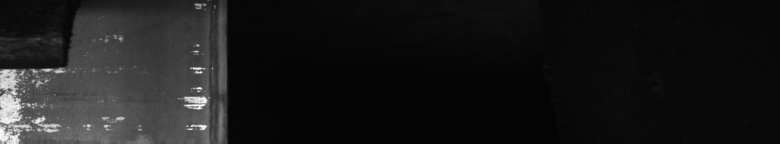kb: (4, 4, 216, 136)
